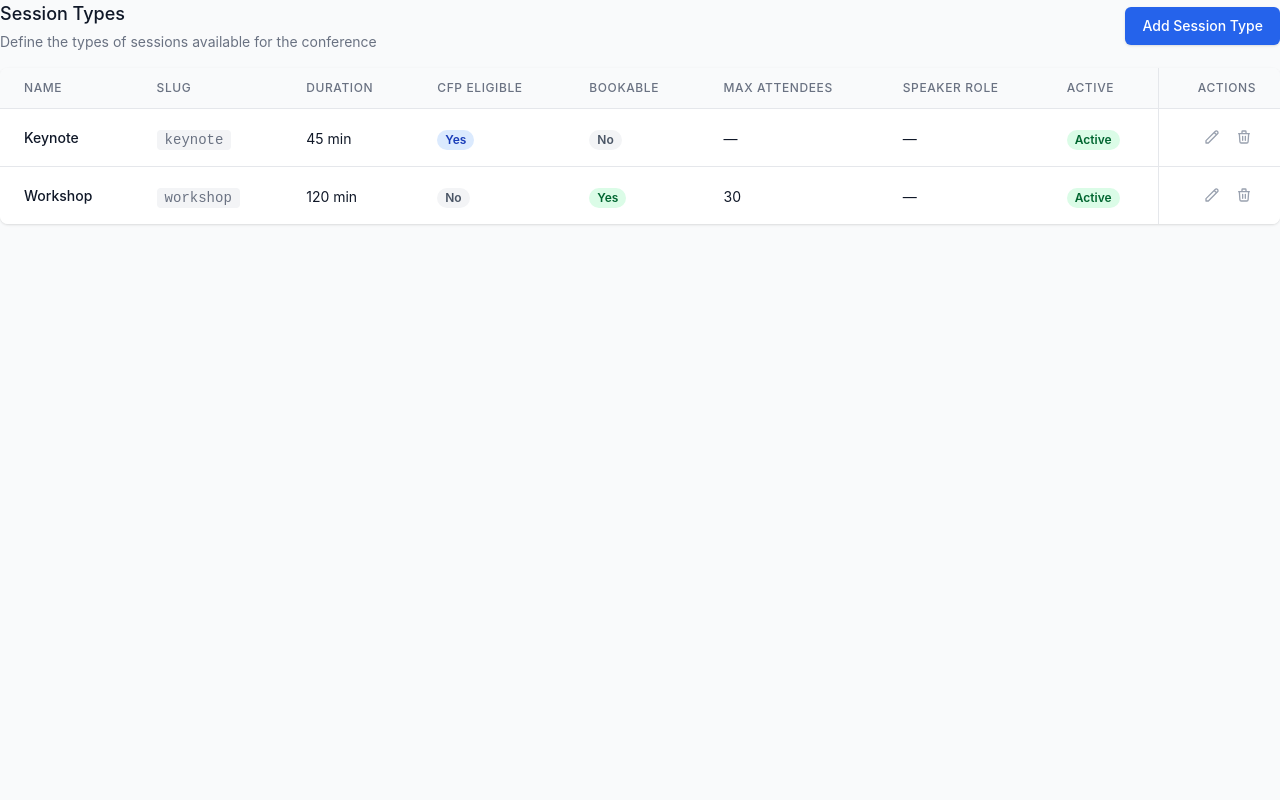
Test: SessionTypesTab › create flow › modal is accessible via dialog role
Click the button "Add Session Type": (1203,26) [1126,7,1279,45]
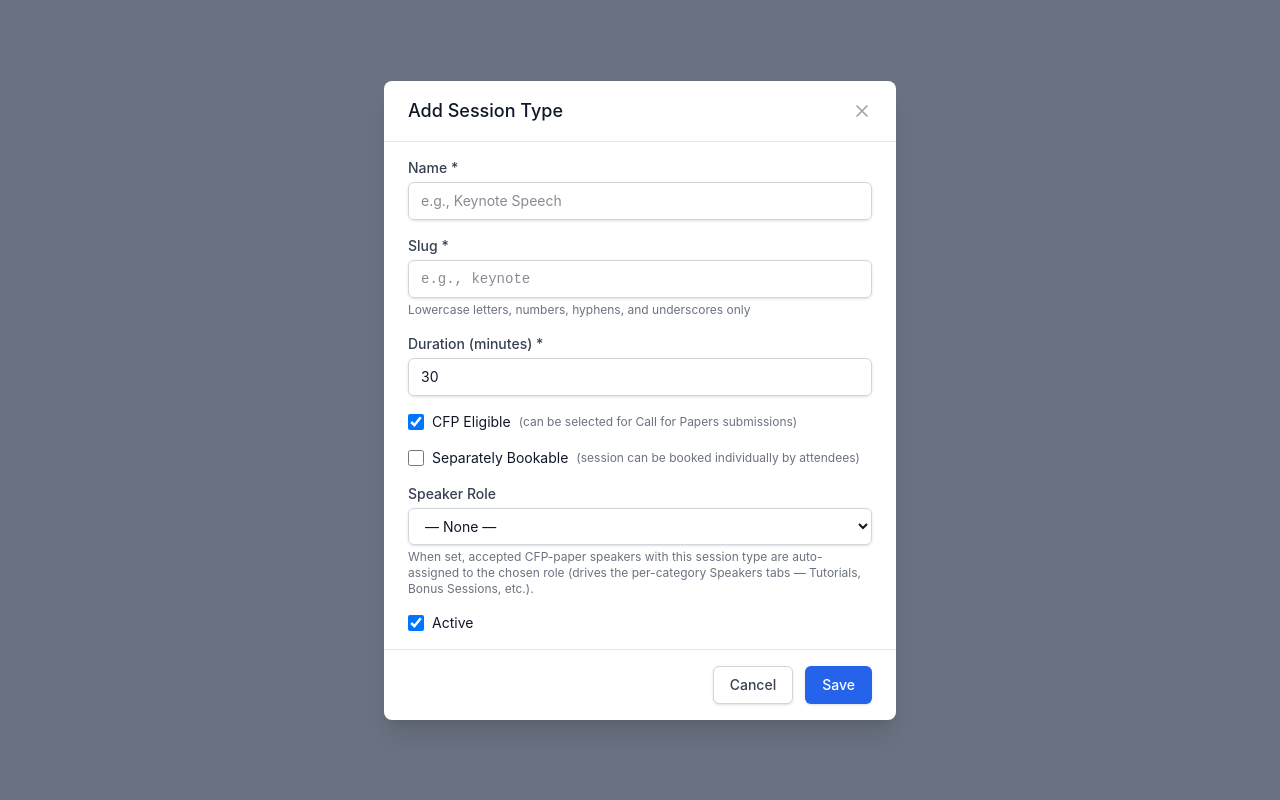
Result: the dialog is shown
